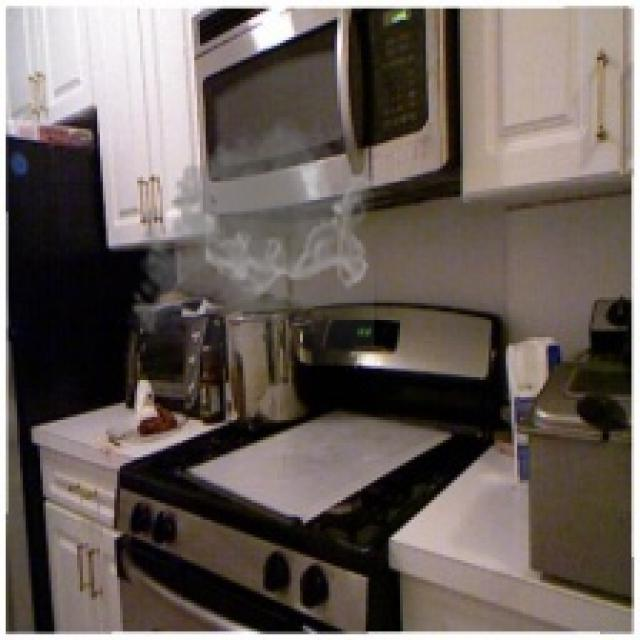smoke: (126, 106, 377, 366)
